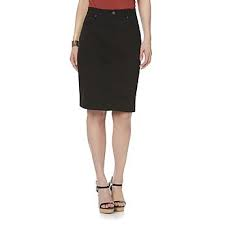S_skirt: (71, 4, 146, 120)
